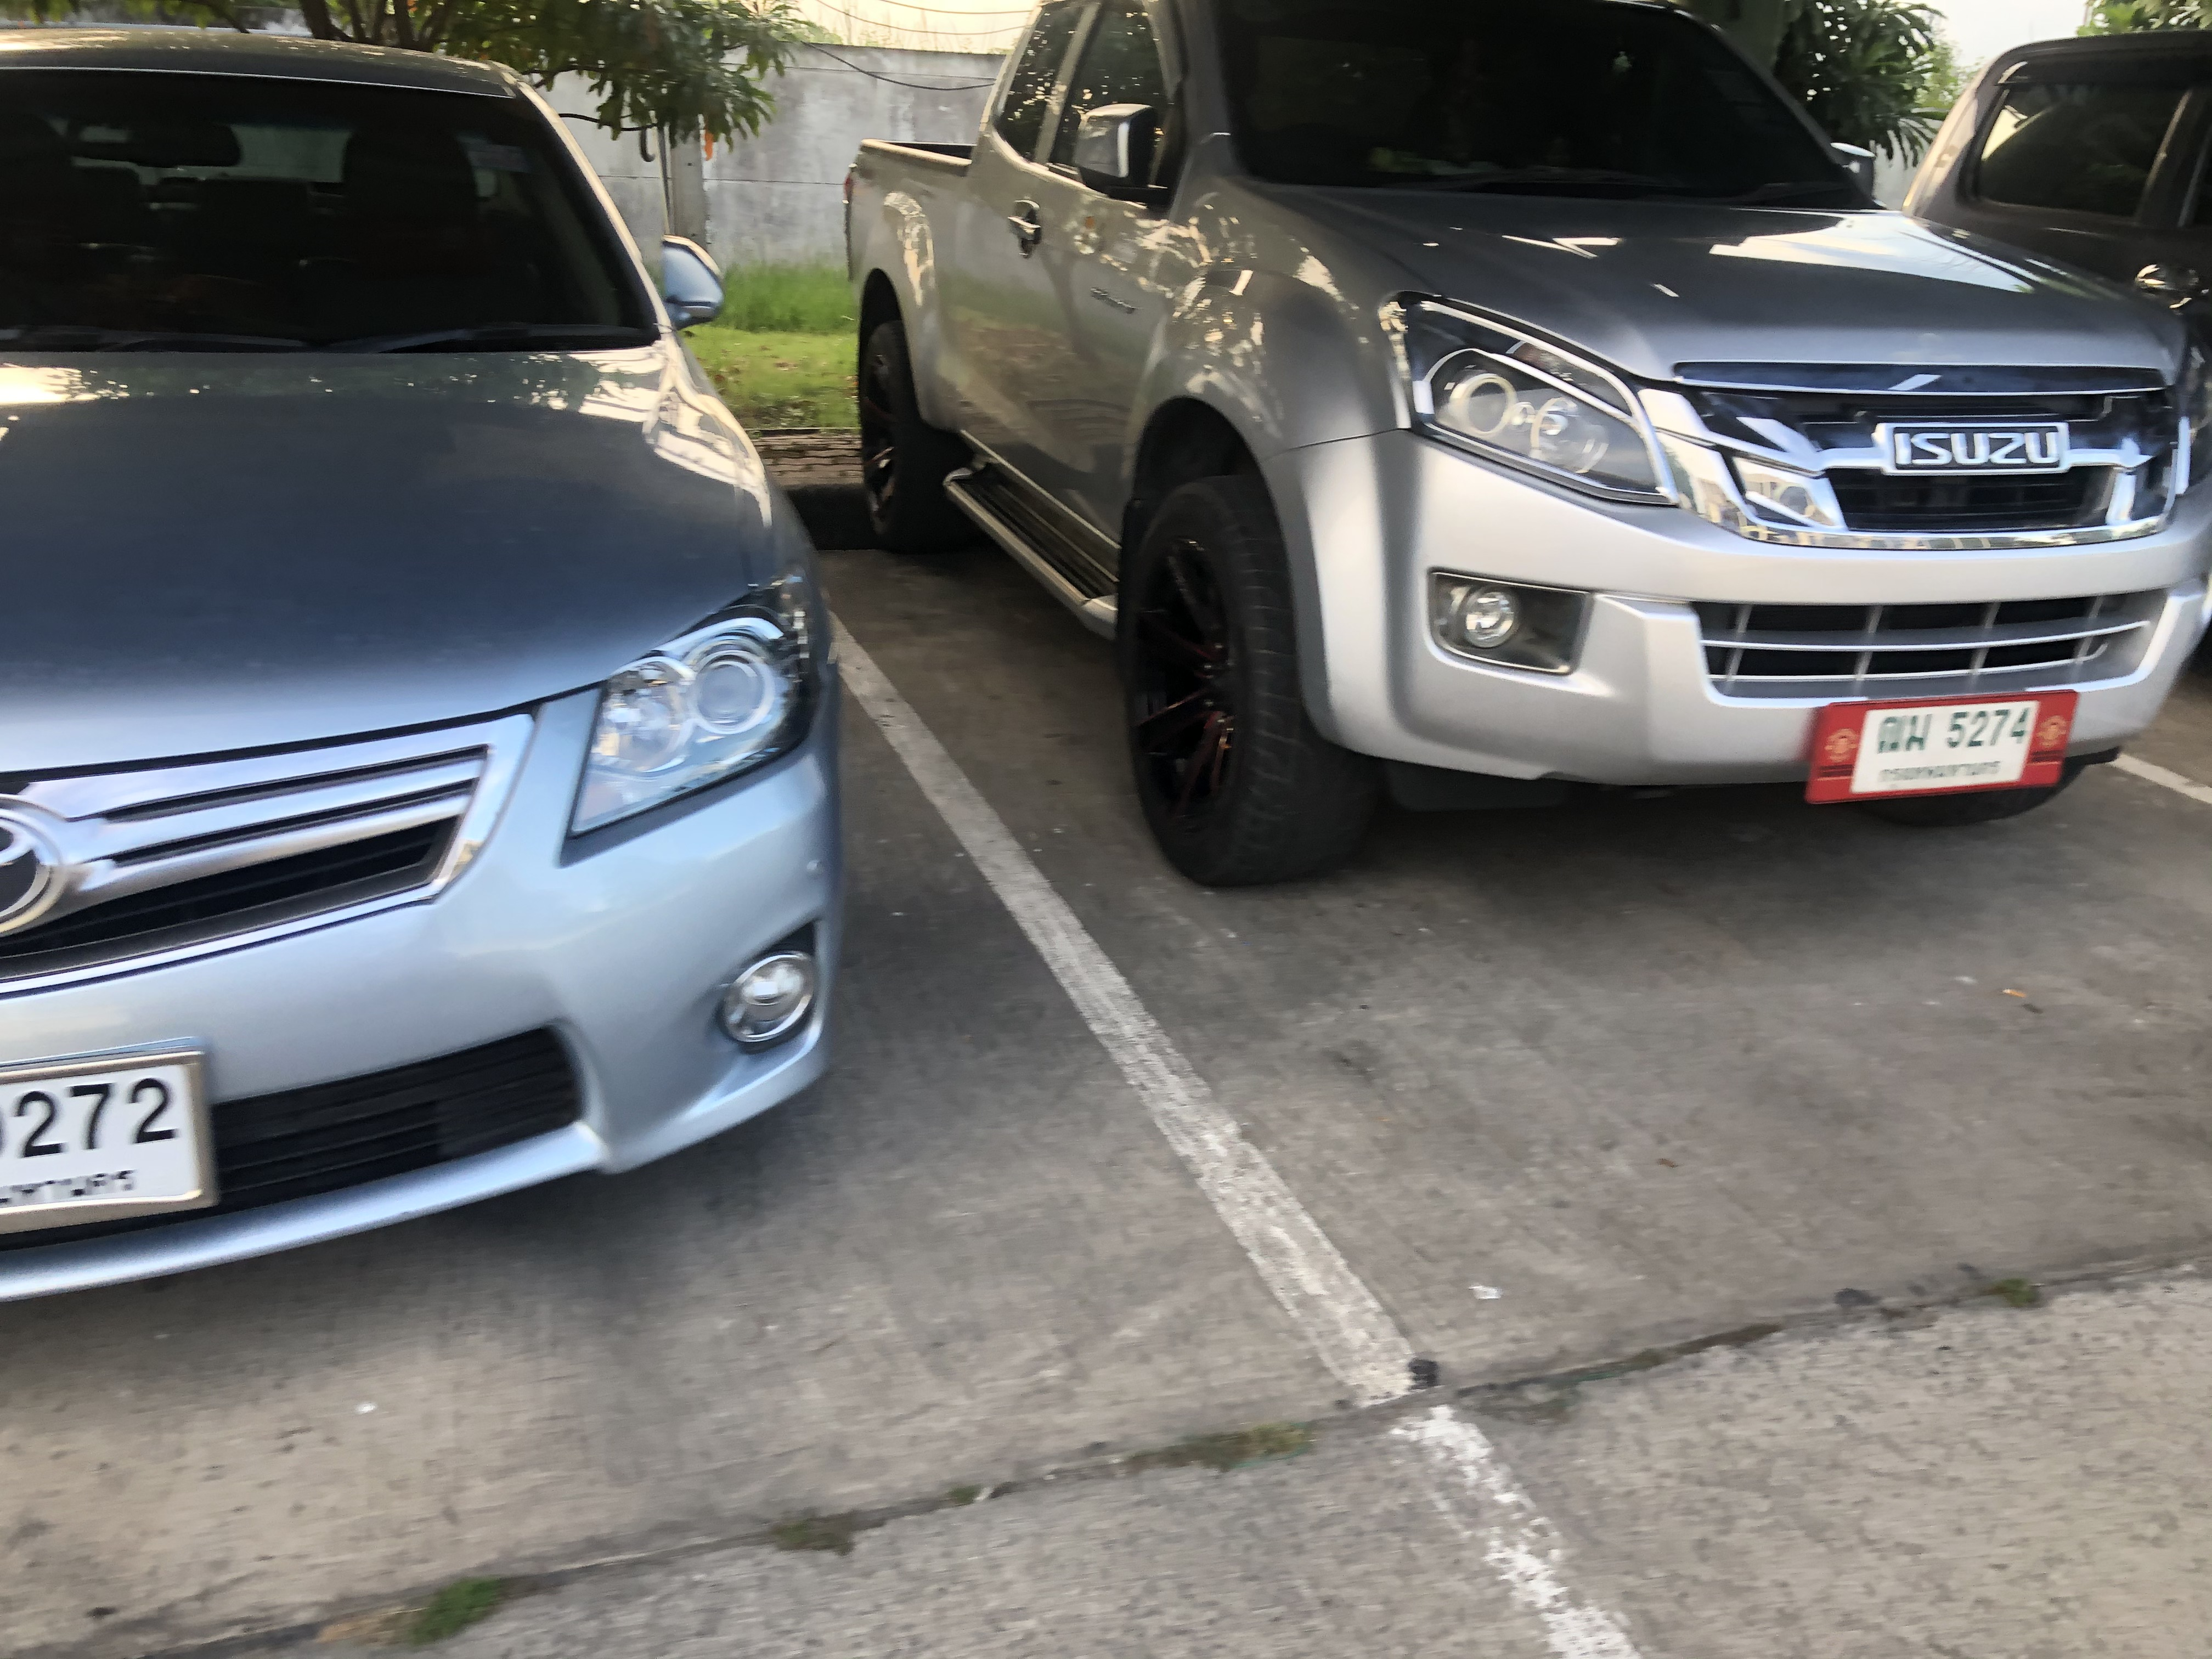in: (1853, 702, 2038, 784)
out: (1806, 690, 2080, 802)
